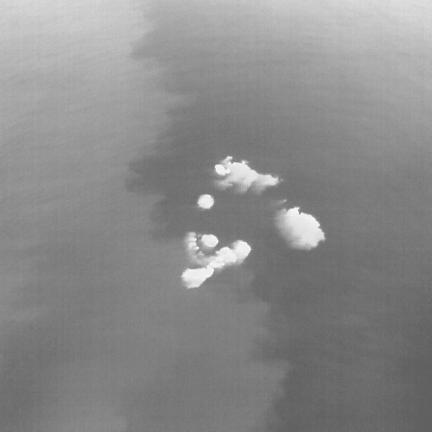flukeprints: (214, 156, 281, 193), (275, 208, 324, 250), (182, 266, 214, 288), (208, 246, 238, 268), (231, 240, 250, 263), (197, 194, 213, 208), (201, 235, 218, 248), (215, 164, 229, 175), (187, 232, 196, 243), (191, 242, 198, 250)
